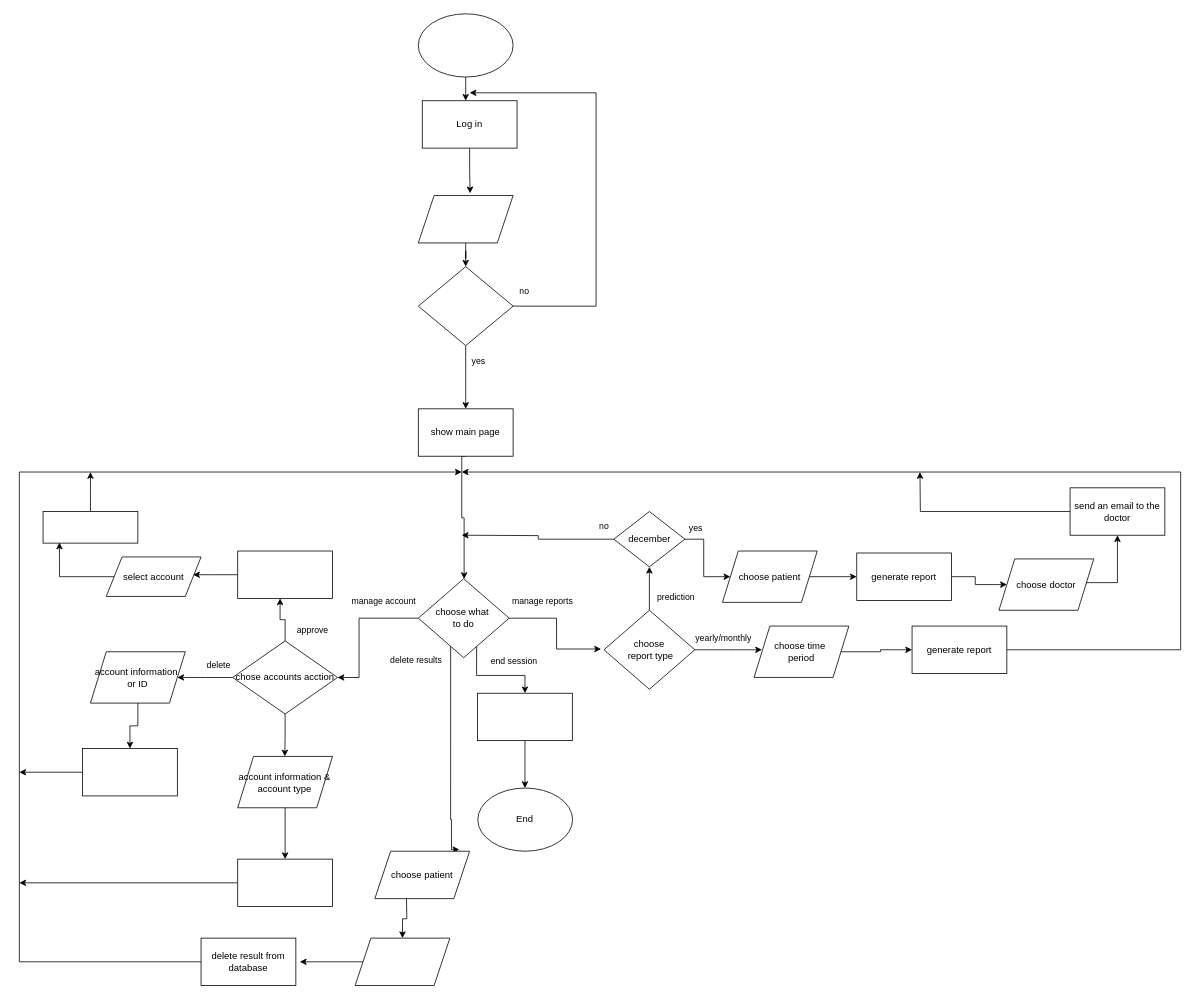
Image size: 1201x999. Some labels were removed from this diagram. Each missing label, with the centre of its shape:
"account approved" goes at (90,527).
"Authentication successfull" goes at (465,306).
"choose result" goes at (402,961).
"create account and send credentials" goes at (285,882).
"delete account" goes at (129,772).
"email & password" goes at (465,219).
"log off" goes at (524,716).
"show a list of unapproved accounts" goes at (285,574).
"Start" goes at (465,45).
